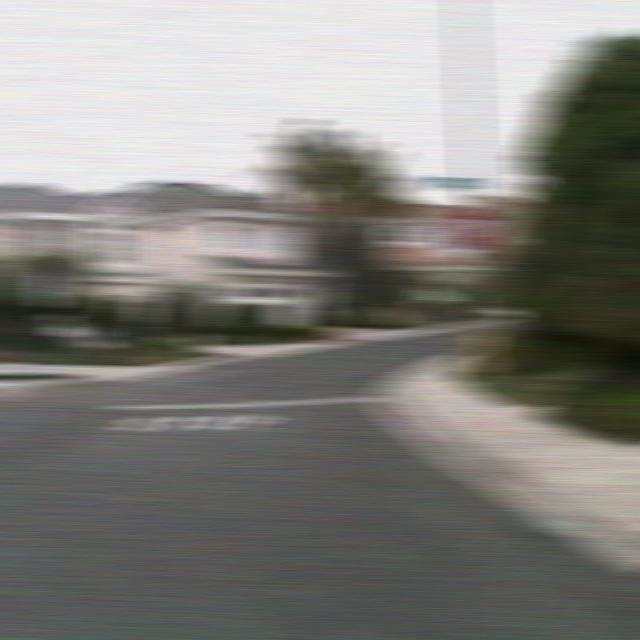stop: (450, 204, 498, 251)
